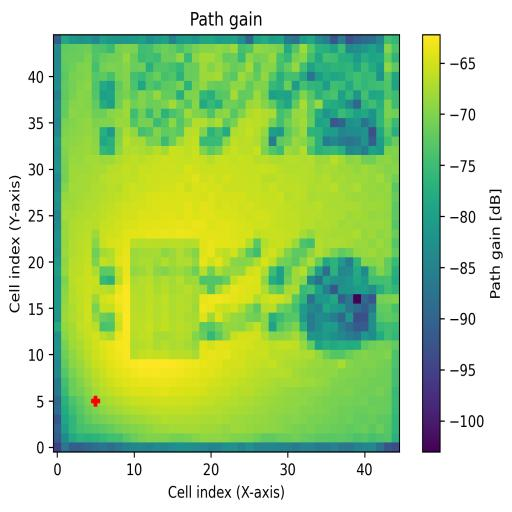Concrete: (307, 46, 384, 154)
Glass: (129, 52, 199, 144)
Metal: (300, 258, 376, 350)
Wood: (129, 237, 200, 360)
